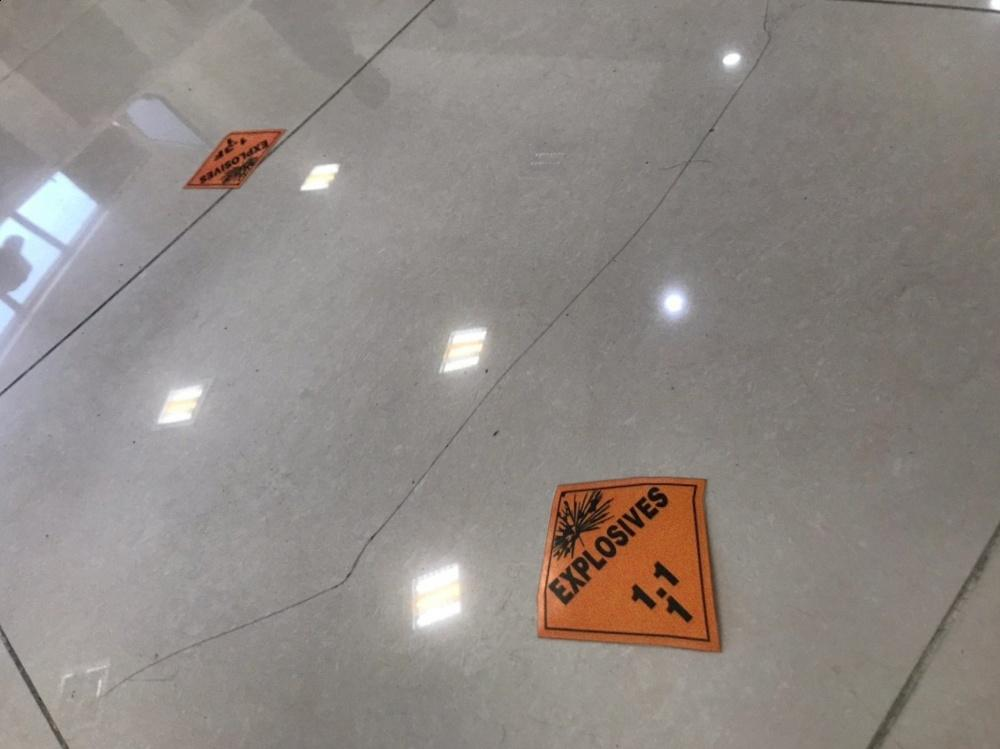explosive: (534, 480, 730, 654), (181, 129, 289, 192)
